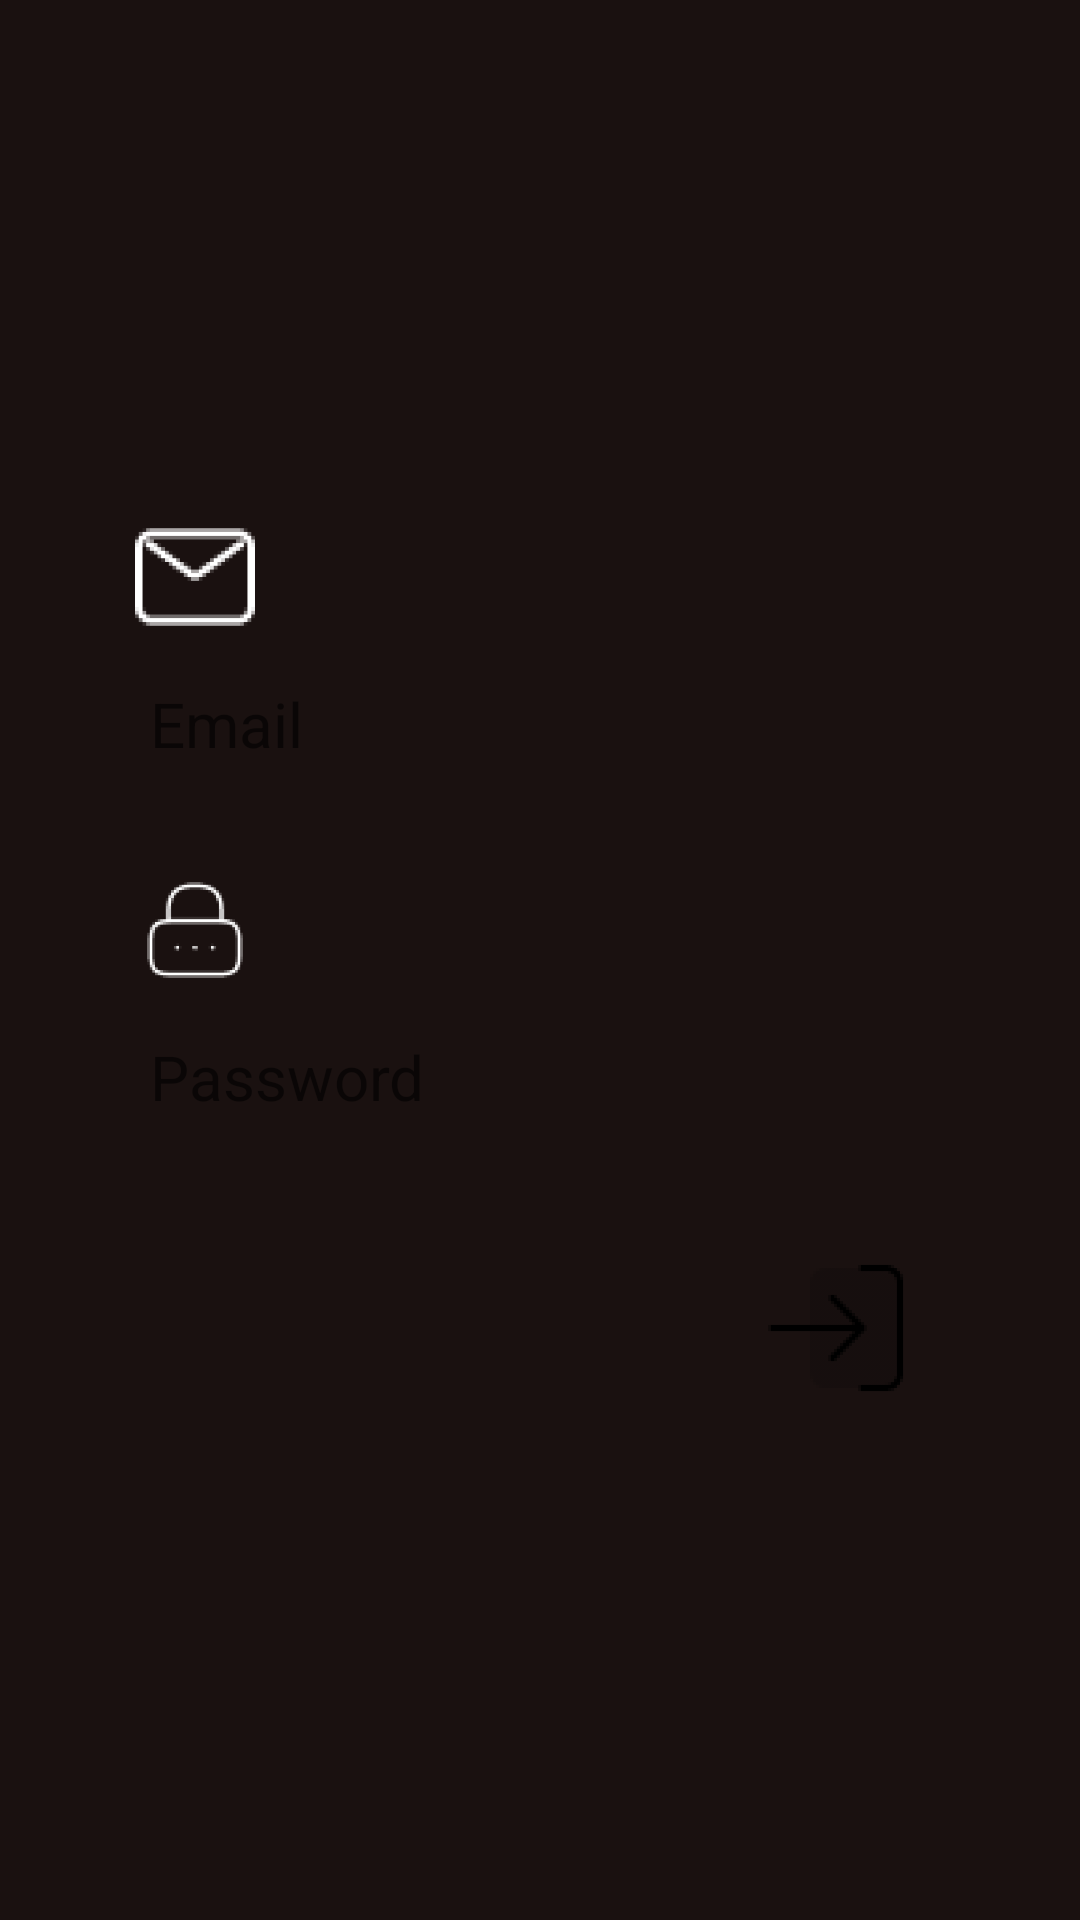

Locate icon controls on the screen. Image size 1080 x 1920, boxes as [x1, y1, x2, y2].
lock: [147, 882, 243, 978]
login: [771, 1265, 903, 1391]
